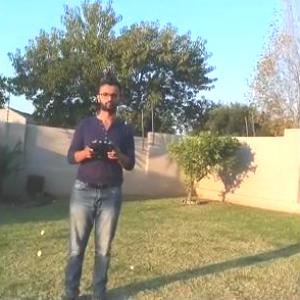follow: (53, 71, 138, 299)
